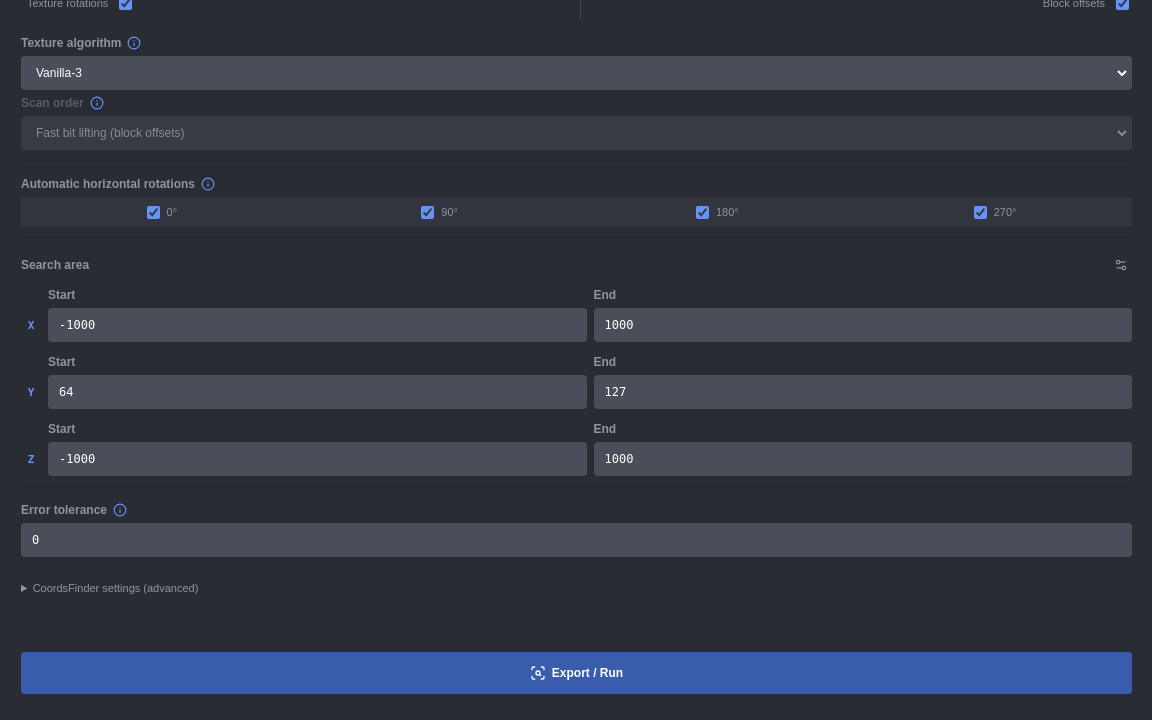
Test: Export / Run workspace › keeps offset context visible when active observations contradict each other
(page scrolled)
Click the button "Export / Run". click: (576, 673)
box: [21,652,1132,694]
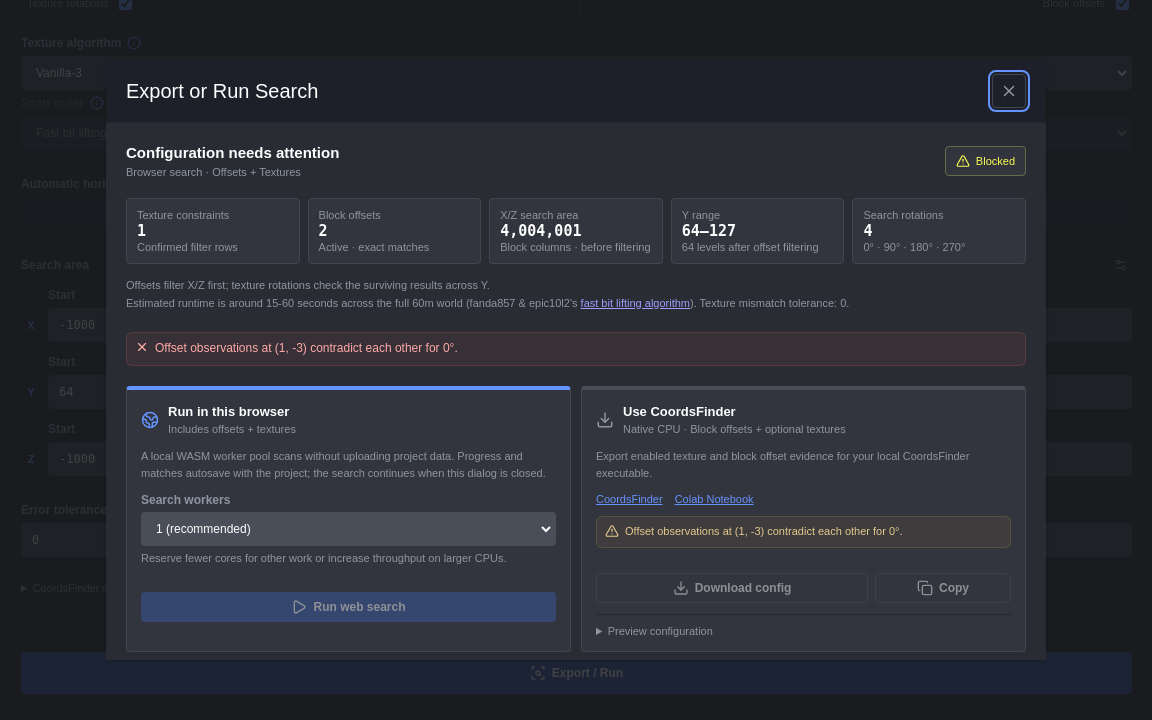
Expected: the message shows "contradict each other", [155,341,458,355]
Expected: the button "Run web search" is disabled, [141,592,556,622]
Expected: the button "Download config" is disabled, [596,573,868,603]
